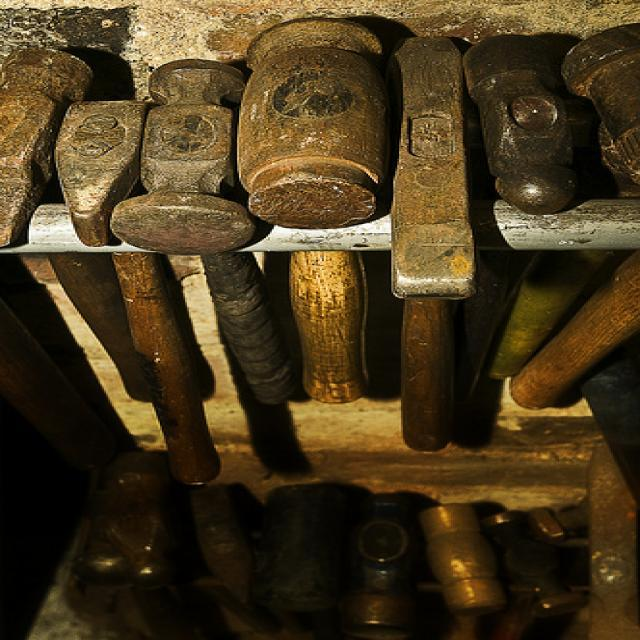hammer: (113, 52, 289, 432), (234, 9, 398, 415), (49, 88, 198, 482), (372, 28, 482, 470), (460, 26, 597, 358), (0, 34, 100, 446), (410, 488, 511, 640), (482, 504, 578, 640), (343, 480, 411, 640)
